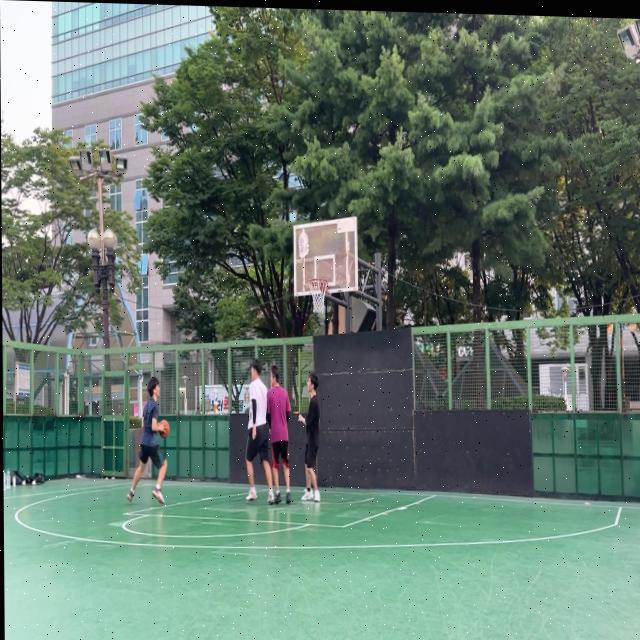basketball: (158, 419, 170, 439)
hoop: (308, 278, 328, 315)
